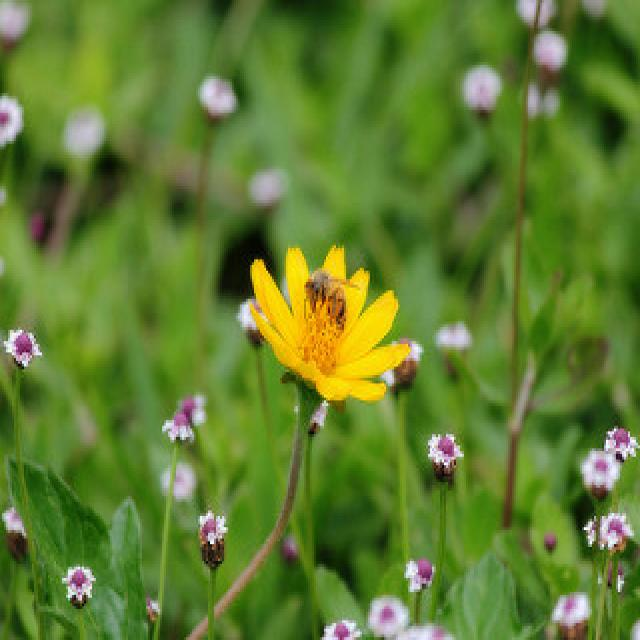Bloomed: (246, 237, 410, 409)
